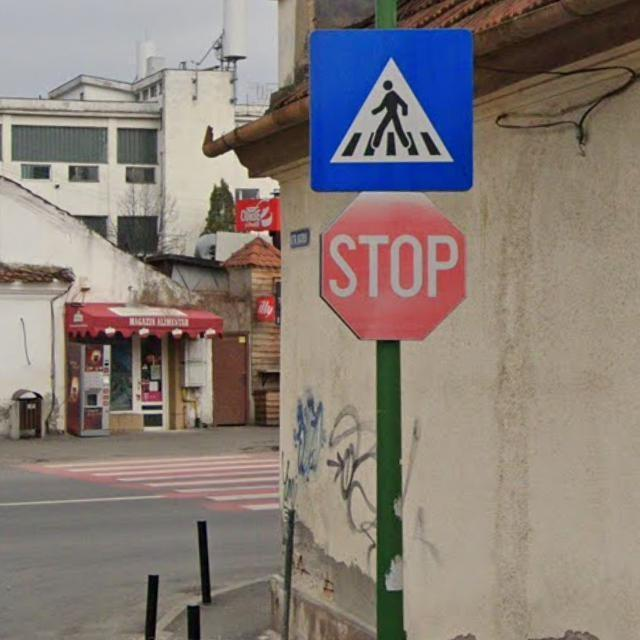info_crosswalk: (309, 27, 474, 191)
prio_stop: (319, 186, 466, 342)
